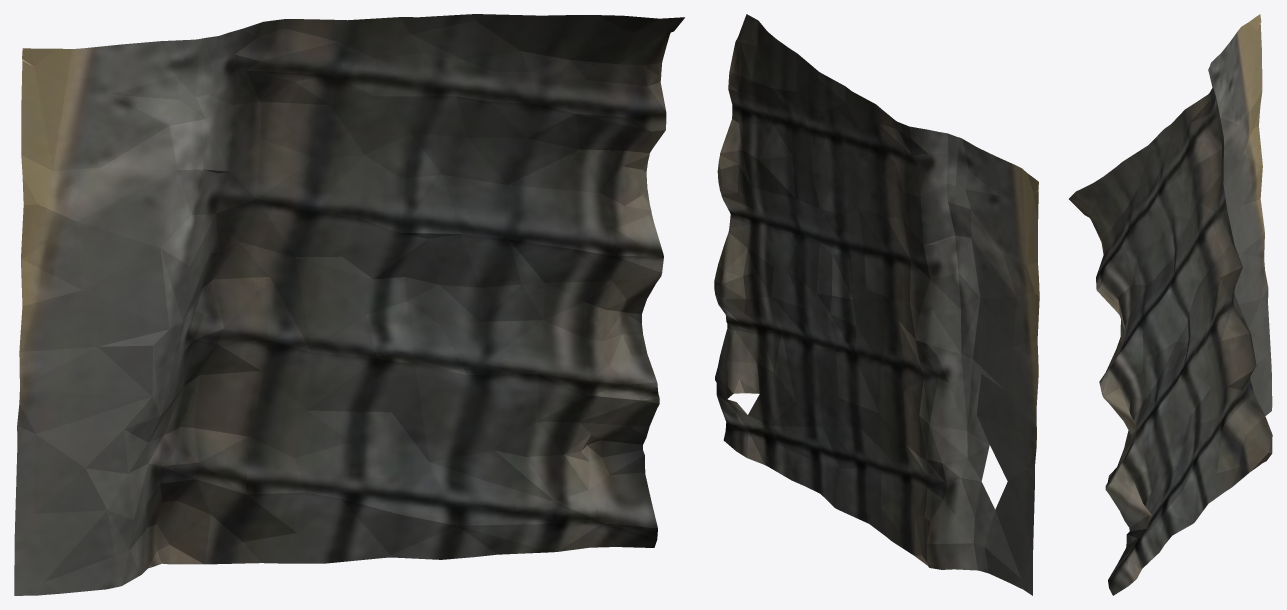
The picture shows the model from 3 angles, left to right: view 1: azimuth 30°, elevation 25°; view 2: azimuth 150°, elevation 25°; view 3: azimuth 270°, elevation 25°; orthographic projection. The views are drawn at different scales.
Size of the model in its own units: 0.8373 by 0.8374 by 0.3902.
Materials: 2 (2 with a texture image).
